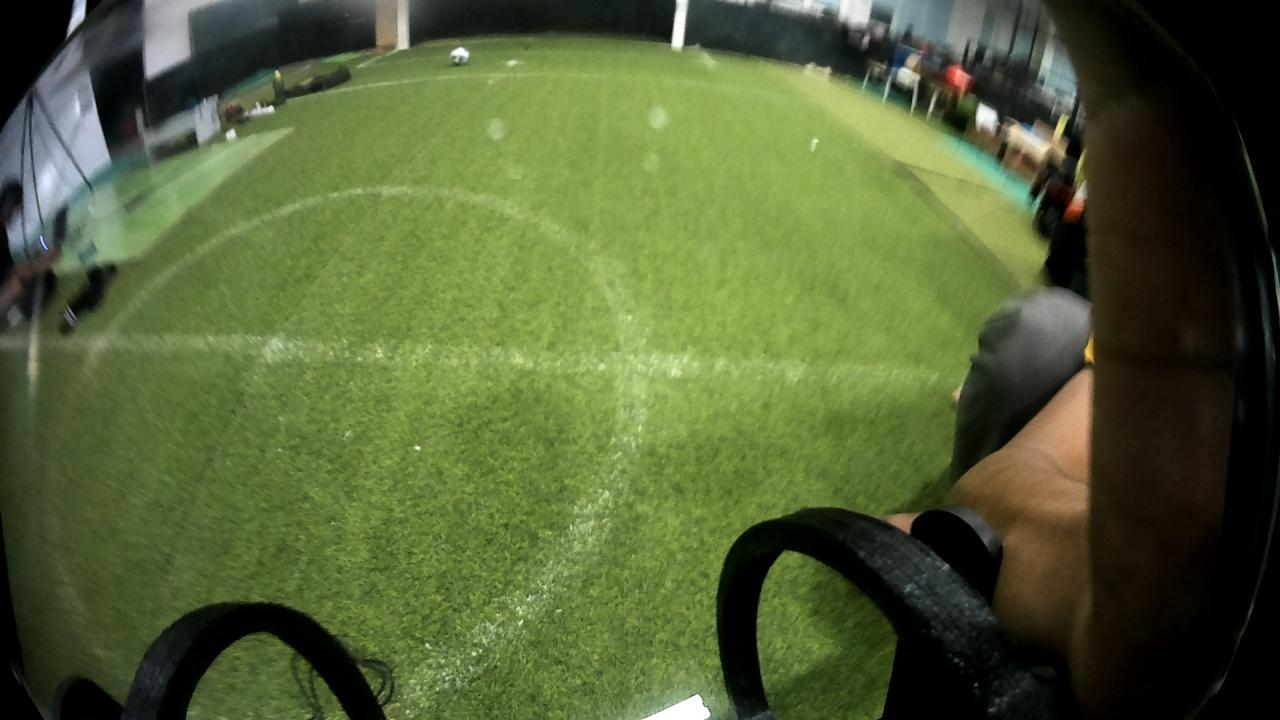ball: (449, 43, 471, 67)
